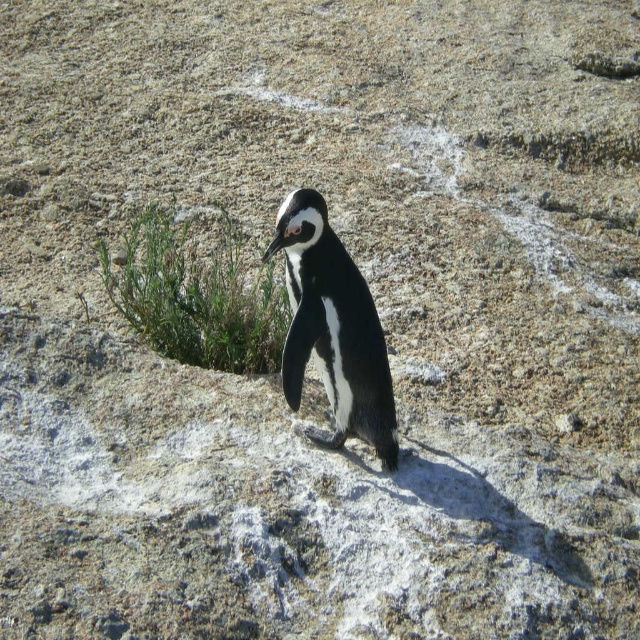Penguin: (260, 183, 409, 478)
